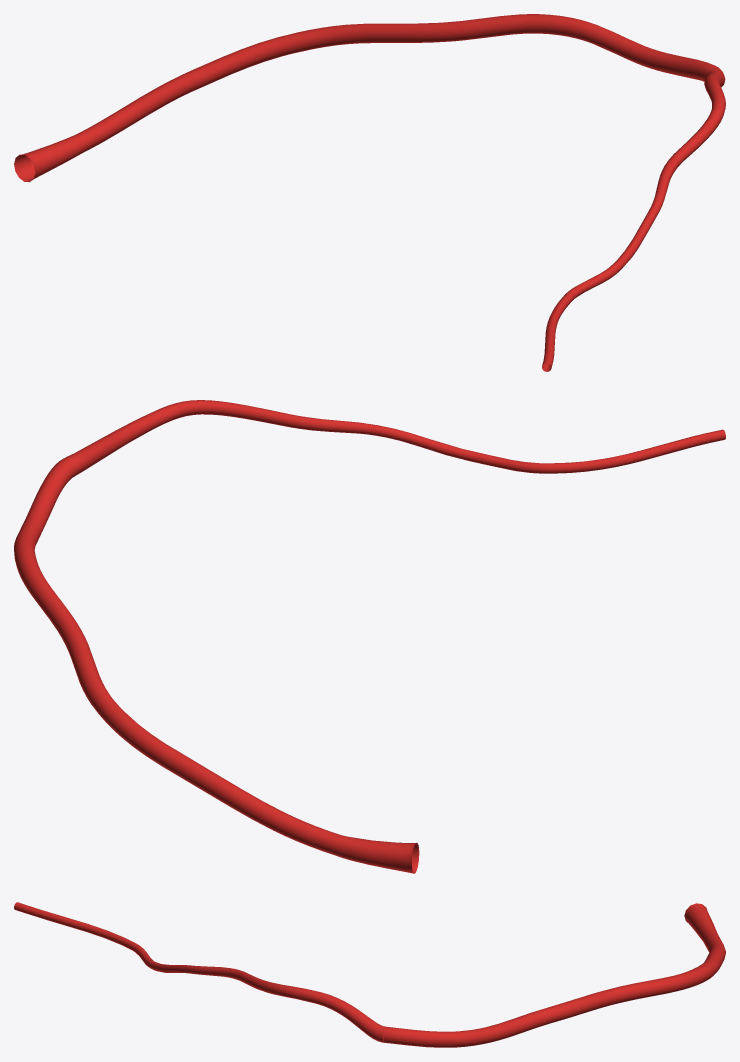
The model's file is circulatorio-transverse-sinus-l.glb.
3 renders of one model, top to bottom at view 1: azimuth 30°, elevation 25°; view 2: azimuth 150°, elevation 25°; view 3: azimuth 270°, elevation 25°, orthographic. The views are drawn at different scales.
Visible parts, largest first — view 1: Transverse sinus.l, Superior petrosal sinus.l; view 2: Transverse sinus.l, Superior petrosal sinus.l; view 3: Transverse sinus.l, Superior petrosal sinus.l.
Boxes of the visible parts, x1,y1,x2,y2 form: Transverse sinus.l: (14, 14, 721, 182); Superior petrosal sinus.l: (542, 68, 725, 371); Transverse sinus.l: (14, 457, 419, 873); Superior petrosal sinus.l: (66, 400, 725, 475); Transverse sinus.l: (383, 903, 725, 1047); Superior petrosal sinus.l: (14, 902, 384, 1042).
Bounding box in the file's own units: 0.061 × 0.0168 × 0.0863.
